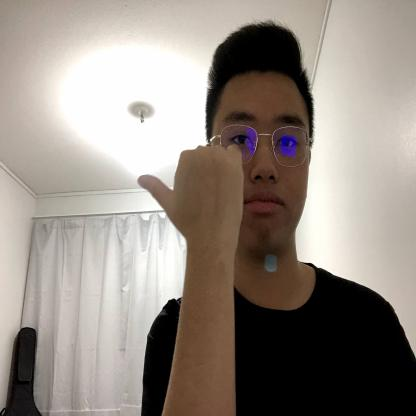right: (134, 144, 247, 238)
